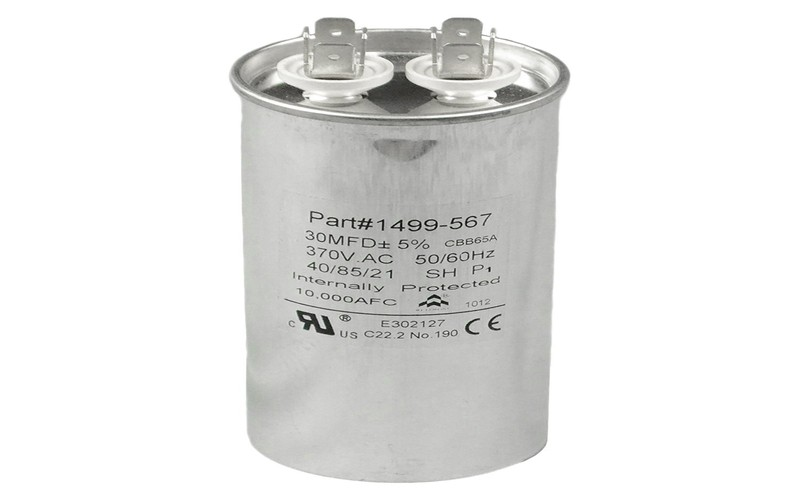Capacitor: (210, 0, 578, 498)
